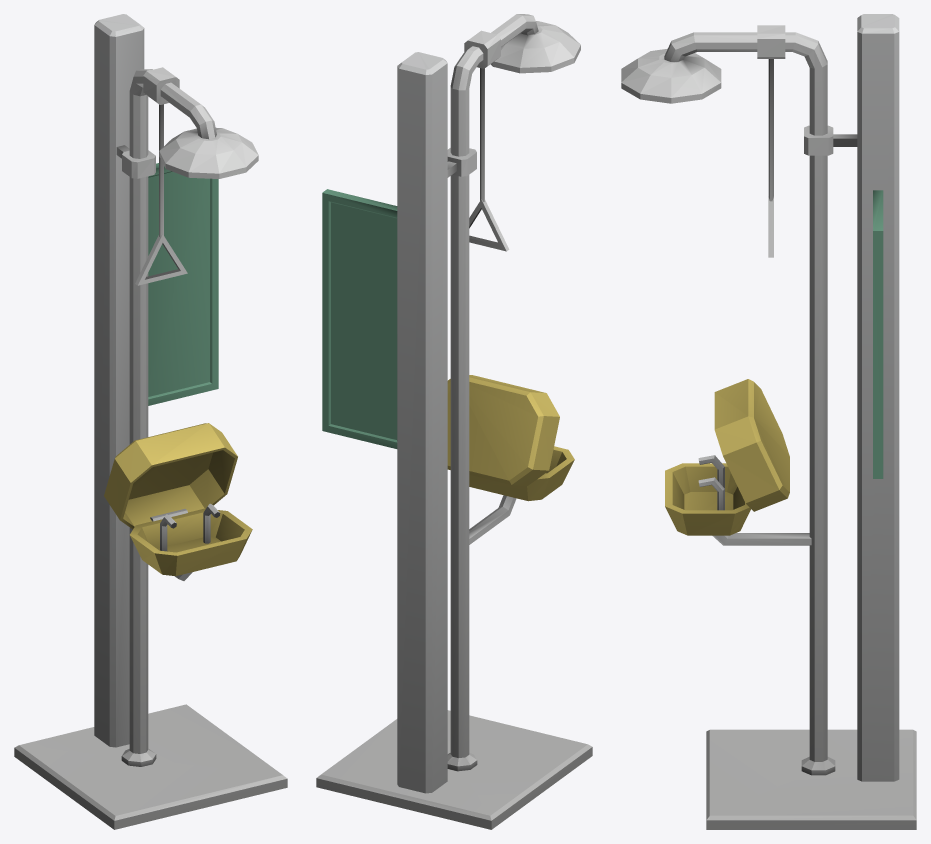
File: shower.glb
The picture shows the model from 3 angles, left to right: view 1: azimuth 30°, elevation 25°; view 2: azimuth 150°, elevation 25°; view 3: azimuth 270°, elevation 25°; orthographic projection. The views are drawn at different scales.
Visible parts, largest first — view 1: shower; view 2: shower; view 3: shower.
Part boxes in pixels (x1,y1,x2,y2): shower: (14, 14, 287, 829); shower: (316, 14, 592, 829); shower: (621, 14, 916, 829).
Bounding box in the file's own units: 0.635 × 2.4 × 0.8427.
